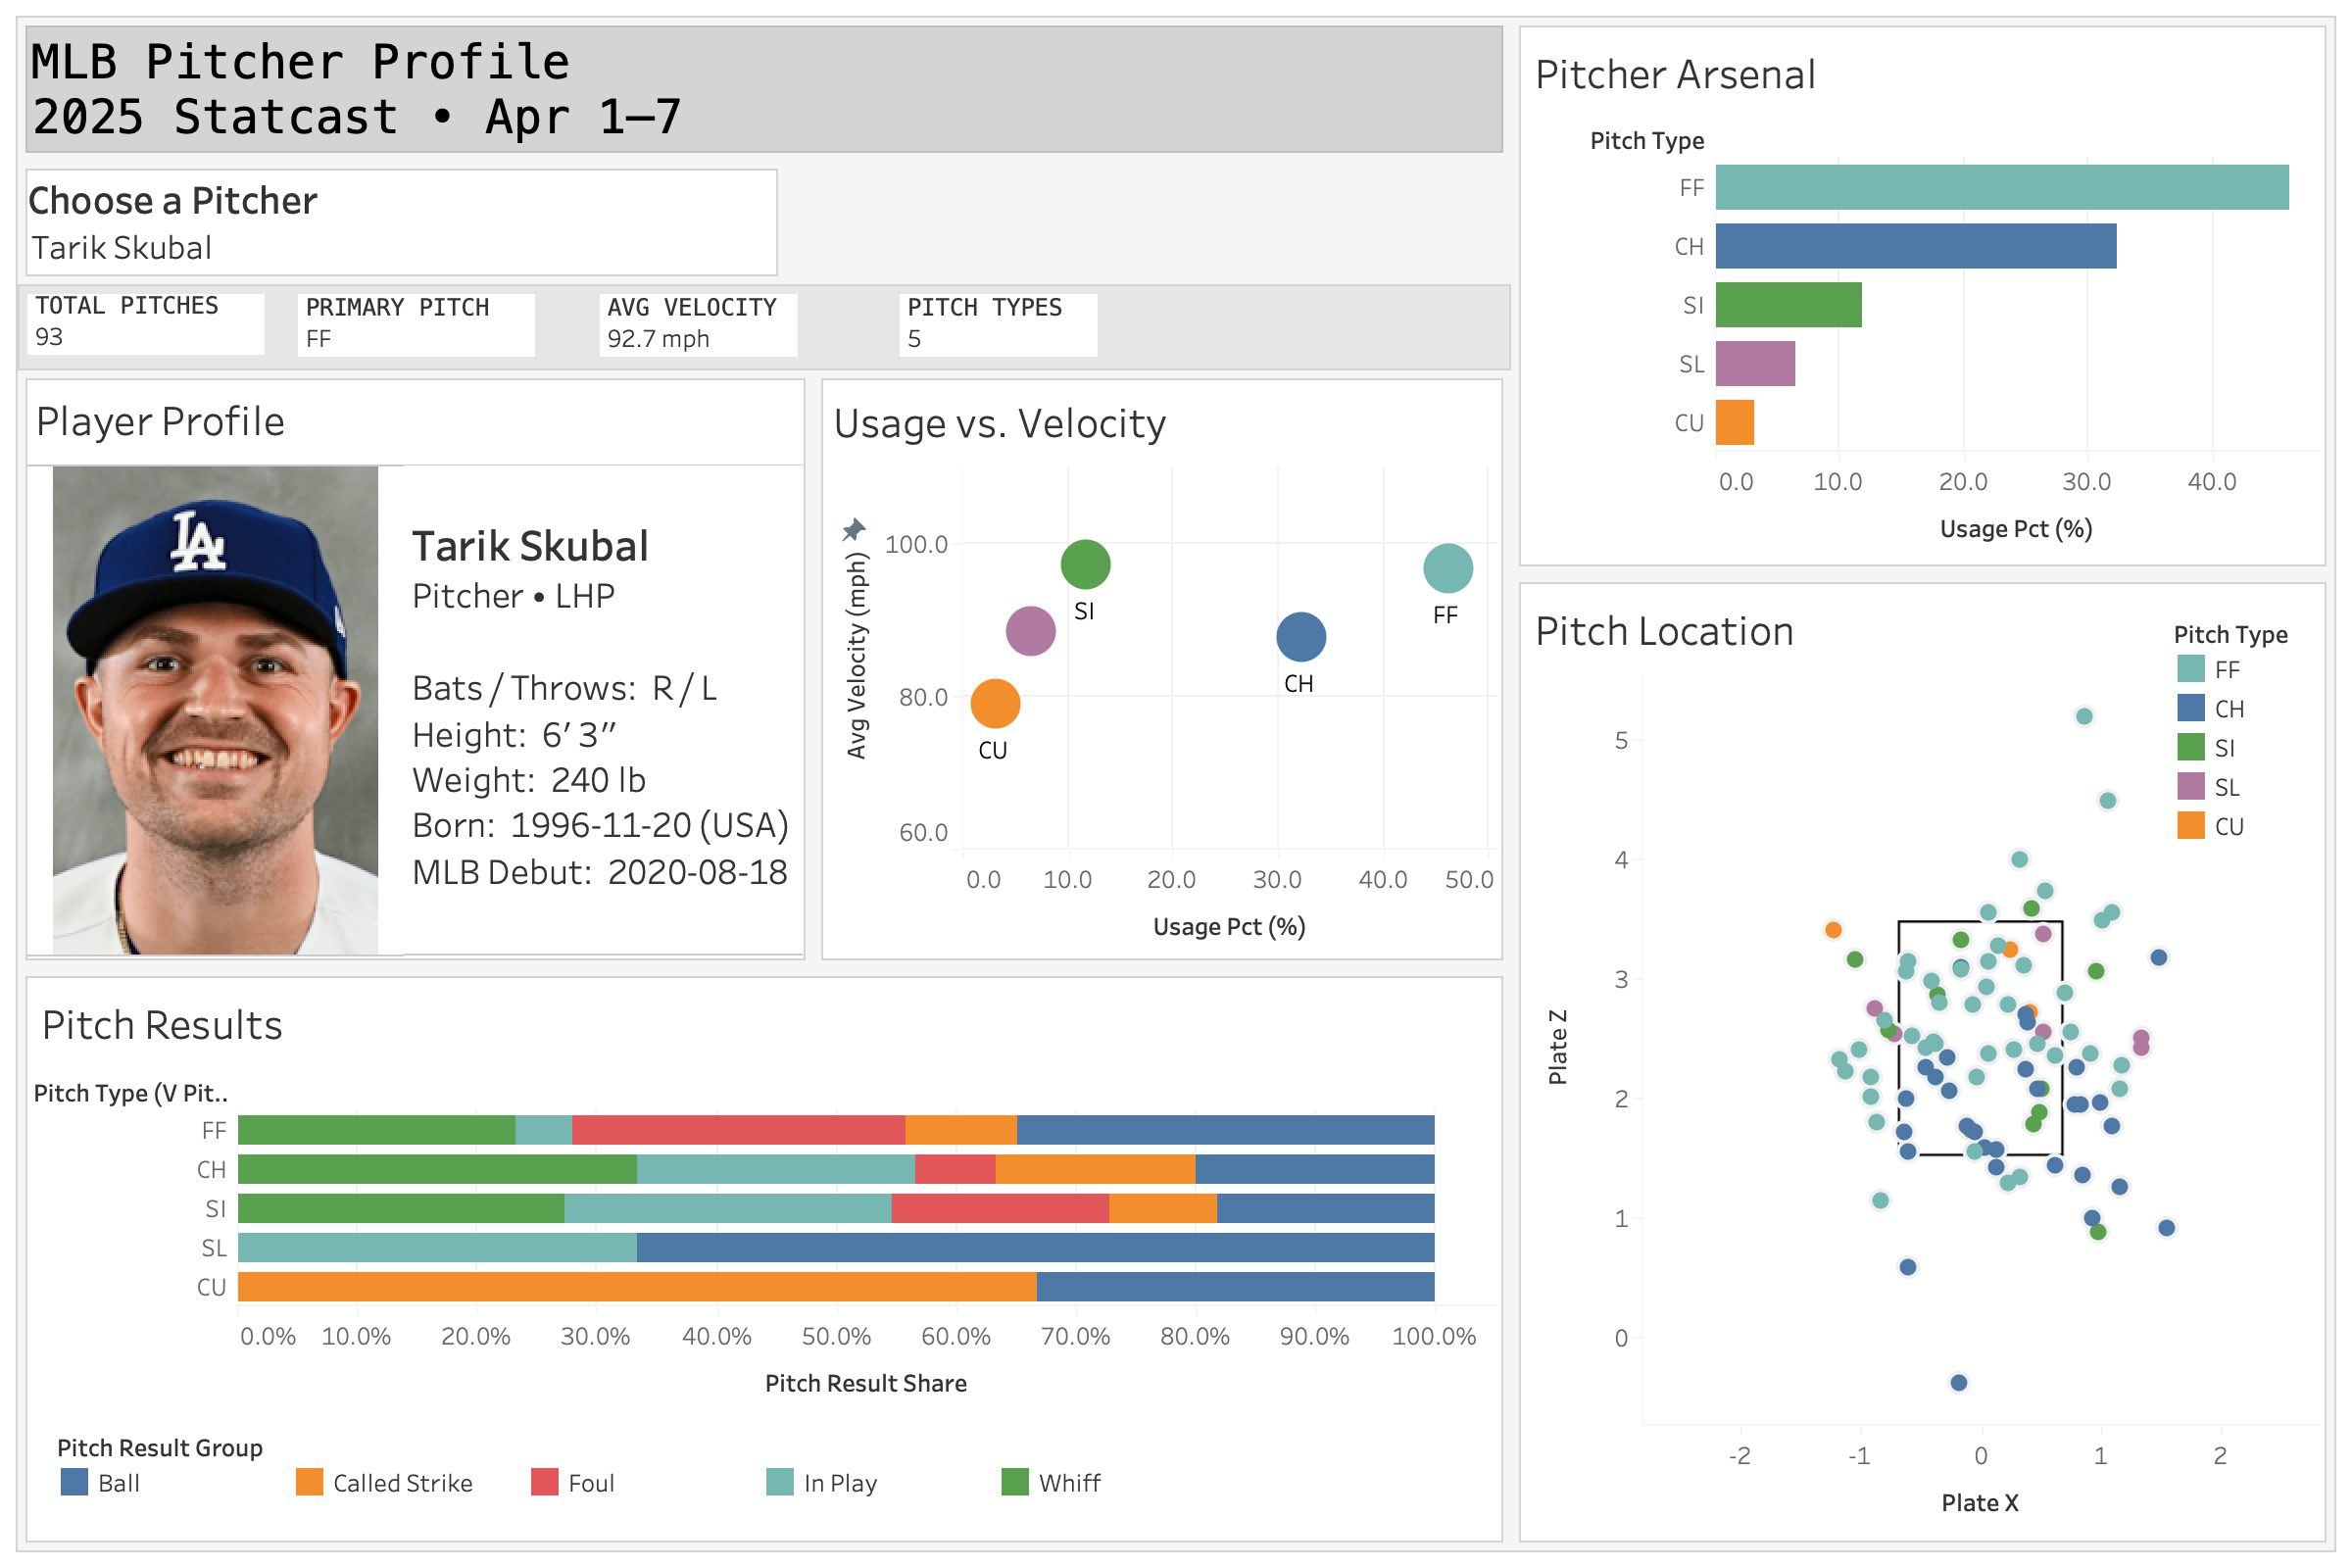

Layout of this report page (visuals, bound fields, positions):
{"tool":"tableau","page":{"name":"Pitcher PROFILE","canvas":[1200,800],"ordinal":0},"visuals":[{"type":"title","box":[9,9,761.7,73]},{"type":"worksheet","title":"Pitcher Arsenal","mark":"Automatic","rows":["pitch_type"],"cols":["usage_pct"],"box":[770.7,9,420.3,284.3]},{"type":"filter","title":"Pitcher Arsenal","param":"[federated.11kurq50ik1lr619kpinw1oufog0].[none:player_name:nk]","box":[9,82,392,63]},{"type":"blank","box":[401,82,369.7,63]},{"type":"worksheet","title":"KPI Total Pitches","mark":"Text","box":[10,146,138,42]},{"type":"worksheet","title":"KPI Primary Pitch","mark":"Text","box":[148,146,154,42]},{"type":"worksheet","title":"KPI Avg Velocity","mark":"Text","box":[302,146,153,42]},{"type":"worksheet","title":"KPI Pitch Types","mark":"Text","box":[455,146,160,42]},{"type":"worksheet","title":"Player Profile","mark":"Automatic","rows":["headshot_url"],"box":[9,189,406.3,305.4]},{"type":"worksheet","title":"Usage vs. Velocity","mark":"Circle","rows":["avg_velocity"],"cols":["usage_pct"],"box":[415.3,189,355.4,305.4]},{"type":"worksheet","title":"Pitch Location","mark":"Circle","rows":["plate_z"],"cols":["plate_x"],"box":[770.7,293.3,420.3,497.7]},{"type":"legend","title":"Pitch Location","param":"[federated.11kurq50ik1lr619kpinw1oufog0].[none:pitch_type (v_pitch_location_repo","box":[1108,313,78,170]},{"type":"worksheet","title":"Pitch Results","mark":"Automatic","rows":["pitch_type (v_pitch_location_report)"],"cols":["pitch_id"],"box":[9,494.4,761.7,296.6]},{"type":"legend","title":"Pitch Results","param":"[federated.11kurq50ik1lr619kpinw1oufog0].[none:Calculation_3349643981950981:nk]","box":[28,728,737,52]}]}

Visuals, with their boxes in screenshot pixels (x1, y1, x2, y2), scaled from the page's 1200x800 canvas onto the 2352x1568 screenshot:
title: 18/18/1510/161
"Pitcher Arsenal" worksheet: 1510/18/2334/575
"Pitcher Arsenal" filter: 18/161/786/284
blank: 786/161/1510/284
"KPI Total Pitches" worksheet (Text marks): 20/286/290/368
"KPI Primary Pitch" worksheet (Text marks): 290/286/592/368
"KPI Avg Velocity" worksheet (Text marks): 592/286/892/368
"KPI Pitch Types" worksheet (Text marks): 892/286/1205/368
"Player Profile" worksheet: 18/370/814/969
"Usage vs. Velocity" worksheet (Circle marks): 814/370/1510/969
"Pitch Location" worksheet (Circle marks): 1510/575/2334/1550
"Pitch Location" legend: 2172/613/2325/947
"Pitch Results" worksheet: 18/969/1510/1550
"Pitch Results" legend: 55/1427/1499/1529
